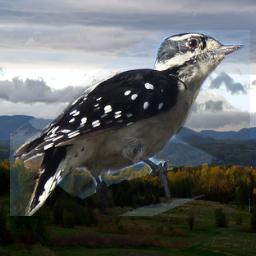Woodpecker: (10, 30, 250, 216)
